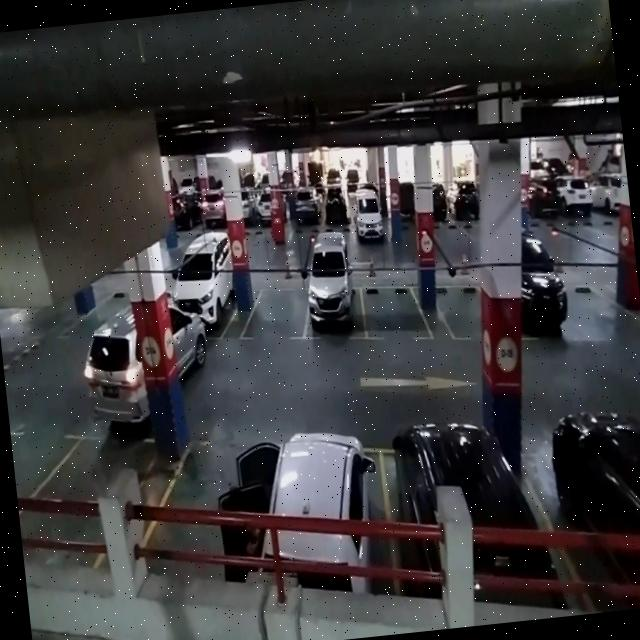empty: (40, 424, 166, 565), (154, 433, 276, 574), (358, 277, 432, 348), (236, 283, 311, 346), (434, 280, 489, 344)
occupied: (378, 428, 556, 602), (263, 422, 398, 606), (168, 238, 240, 344), (300, 249, 368, 346)
